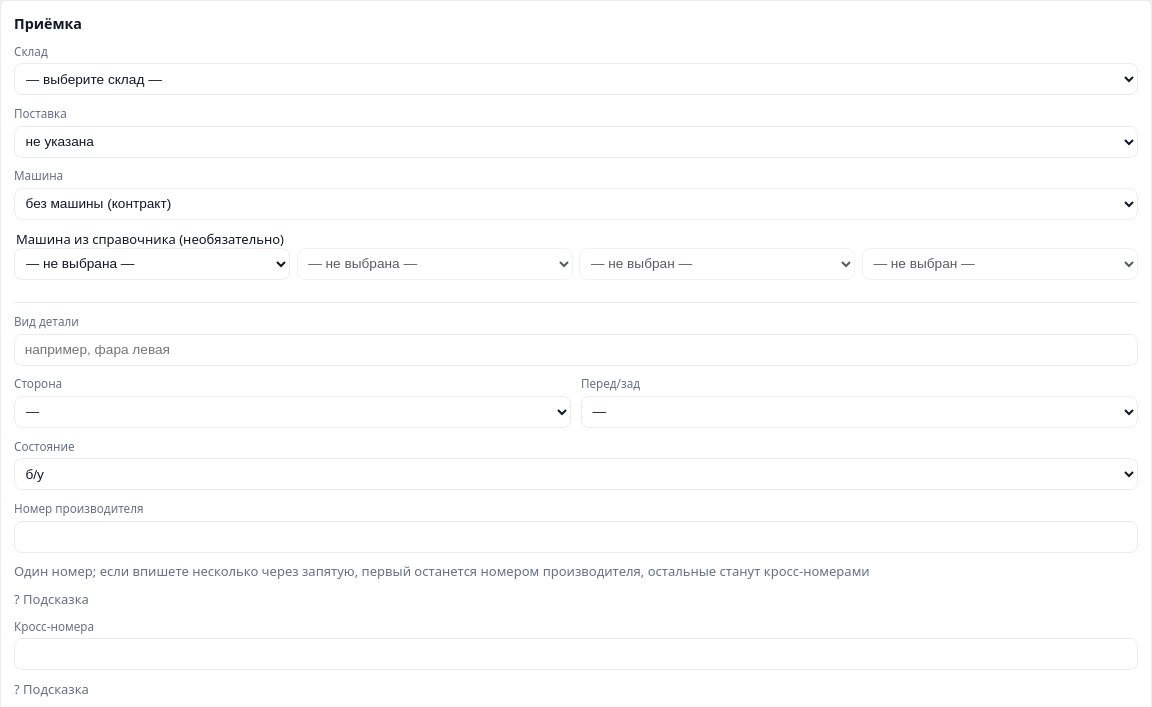
Test: приёмка принимает заведённую заранее позицию, а не новую › без склада принять нельзя — и сказано почему
Select "18 · Иокогама" in the dropdown labelled "Поставка" at (576, 142), box x1=14 y1=126 x2=1138 y2=158
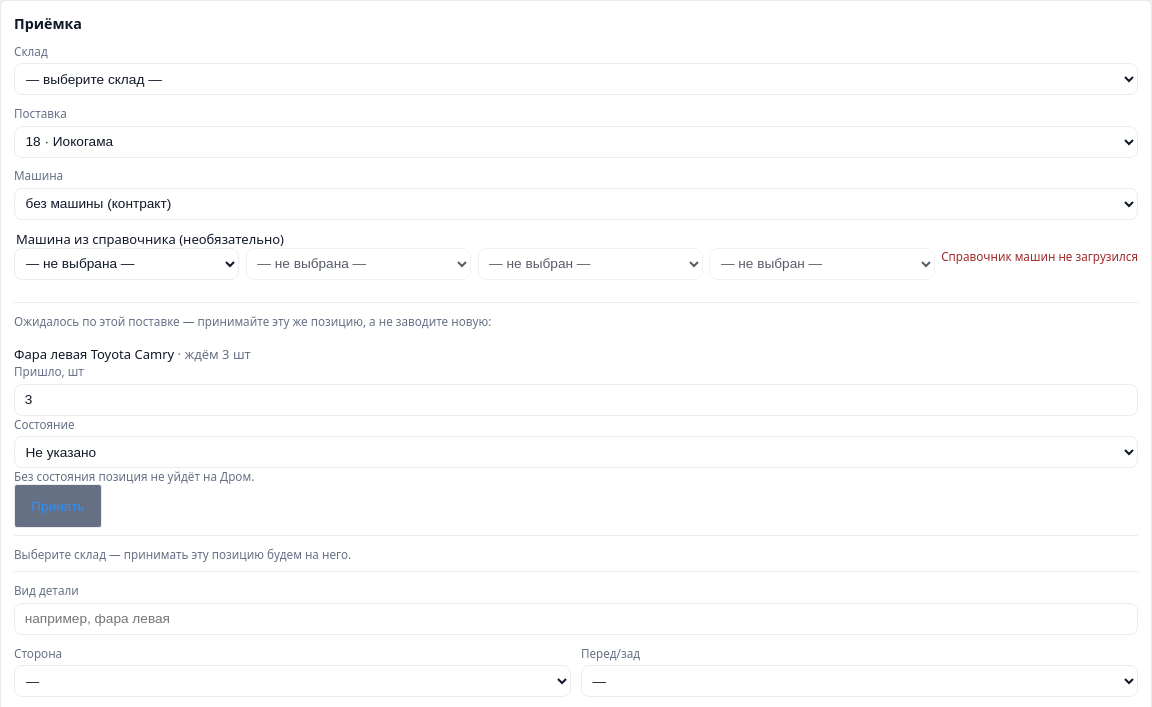
Expected: the button "Принять" is disabled, x1=14 y1=484 x2=102 y2=528
Expected: the text "Выберите склад" is shown, x1=14 y1=546 x2=351 y2=562
